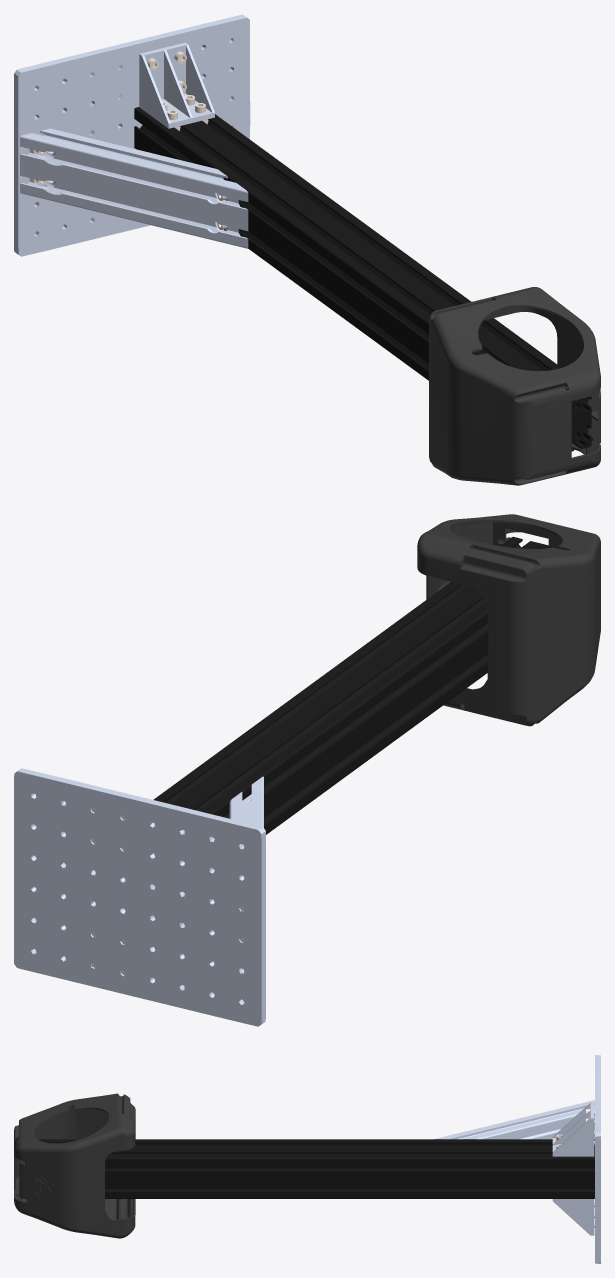
The model's file is body_link0.dae.
The picture shows the model from 3 angles, top to bottom: view 1: azimuth 30°, elevation 25°; view 2: azimuth 150°, elevation 25°; view 3: azimuth 270°, elevation 25°; orthographic projection. The views are drawn at different scales.
Visible parts, largest first — view 1: node19, node39, node38, node18, node16; view 2: node38, node19, node39, node18; view 3: node19, node39, node18, node16, node38, node17.
Part boxes in pixels (box(x1,y1,x2,y2)): node19: box(134, 107, 591, 451); node39: box(429, 287, 600, 485); node38: box(14, 14, 250, 256); node18: box(20, 128, 248, 248); node16: box(139, 42, 214, 128); node38: box(14, 768, 265, 1026); node19: box(153, 536, 564, 834); node39: box(417, 514, 600, 726); node18: box(229, 776, 263, 827); node19: box(25, 1139, 594, 1198); node39: box(14, 1093, 135, 1238); node18: box(434, 1100, 594, 1139); node16: box(552, 1102, 594, 1156); node38: box(595, 1055, 600, 1263); node17: box(552, 1199, 594, 1235).
Size of the model in its own units: 0.25 by 0.19 by 0.773.
